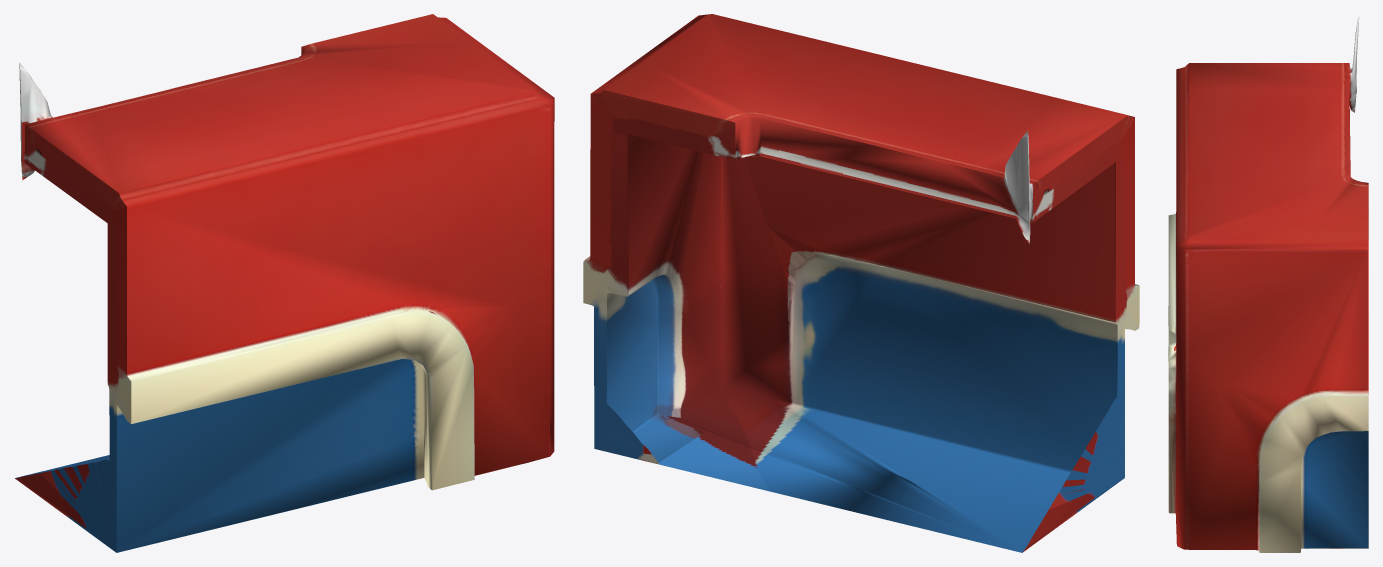
File: 14-topper-front-right.fbx
The picture shows the model from 3 angles, left to right: view 1: azimuth 30°, elevation 25°; view 2: azimuth 150°, elevation 25°; view 3: azimuth 270°, elevation 25°; orthographic projection. The views are drawn at different scales.
Parts seen in each view (by area): view 1: topper-front-right; view 2: topper-front-right; view 3: topper-front-right.
Part boxes in pixels (<box>): topper-front-right: <box>15,14,554,552</box>; topper-front-right: <box>583,14,1139,552</box>; topper-front-right: <box>1168,15,1368,552</box>.
Bounding box in the file's own units: 4801 × 4373 × 2224.
Materials: 1 (1 with a texture image).
